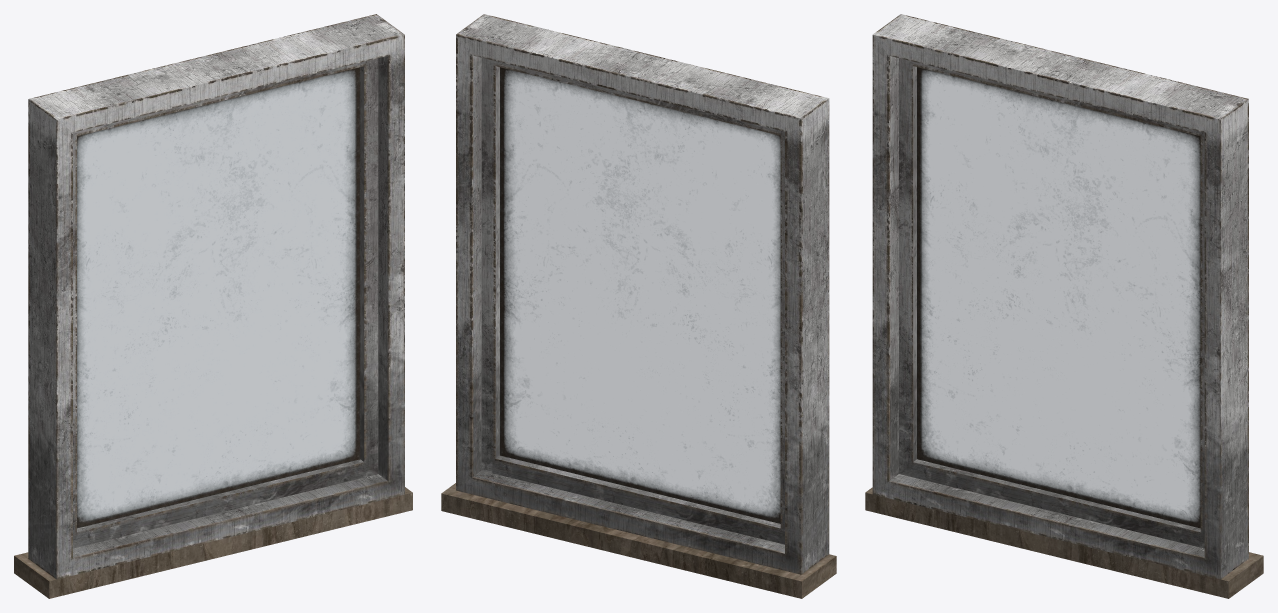
The model's file is window.glb.
3 renders of one model, left to right at view 1: azimuth 30°, elevation 25°; view 2: azimuth 150°, elevation 25°; view 3: azimuth 330°, elevation 25°, orthographic.
Parts seen in each view (by area): view 1: Glass_001, Window_001, Frame_001; view 2: Glass_001, Window_001, Frame_001; view 3: Glass_001, Window_001, Frame_001.
Part boxes in pixels (box(x1,y1,x2,y2)): Glass_001: box(77, 67, 360, 528); Window_001: box(28, 14, 404, 579); Frame_001: box(14, 487, 412, 598); Glass_001: box(500, 67, 780, 523); Window_001: box(456, 14, 829, 574); Frame_001: box(441, 483, 836, 598); Glass_001: box(917, 67, 1200, 528); Window_001: box(872, 14, 1248, 579); Frame_001: box(865, 487, 1263, 598).
Size of the model in its own units: 1.59 by 2 by 0.2661.
Materials: 2 (2 with a texture image).
